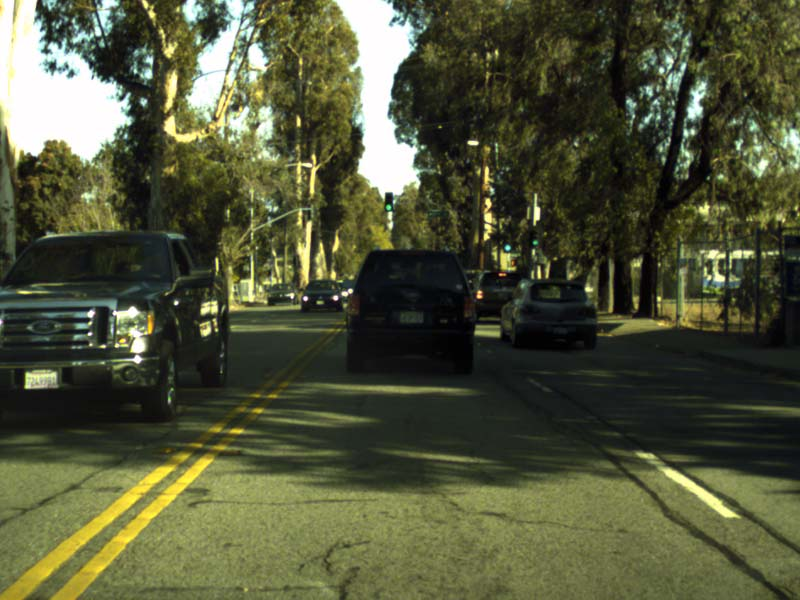Green: (502, 232, 511, 252), (528, 229, 538, 247), (384, 193, 392, 211)
